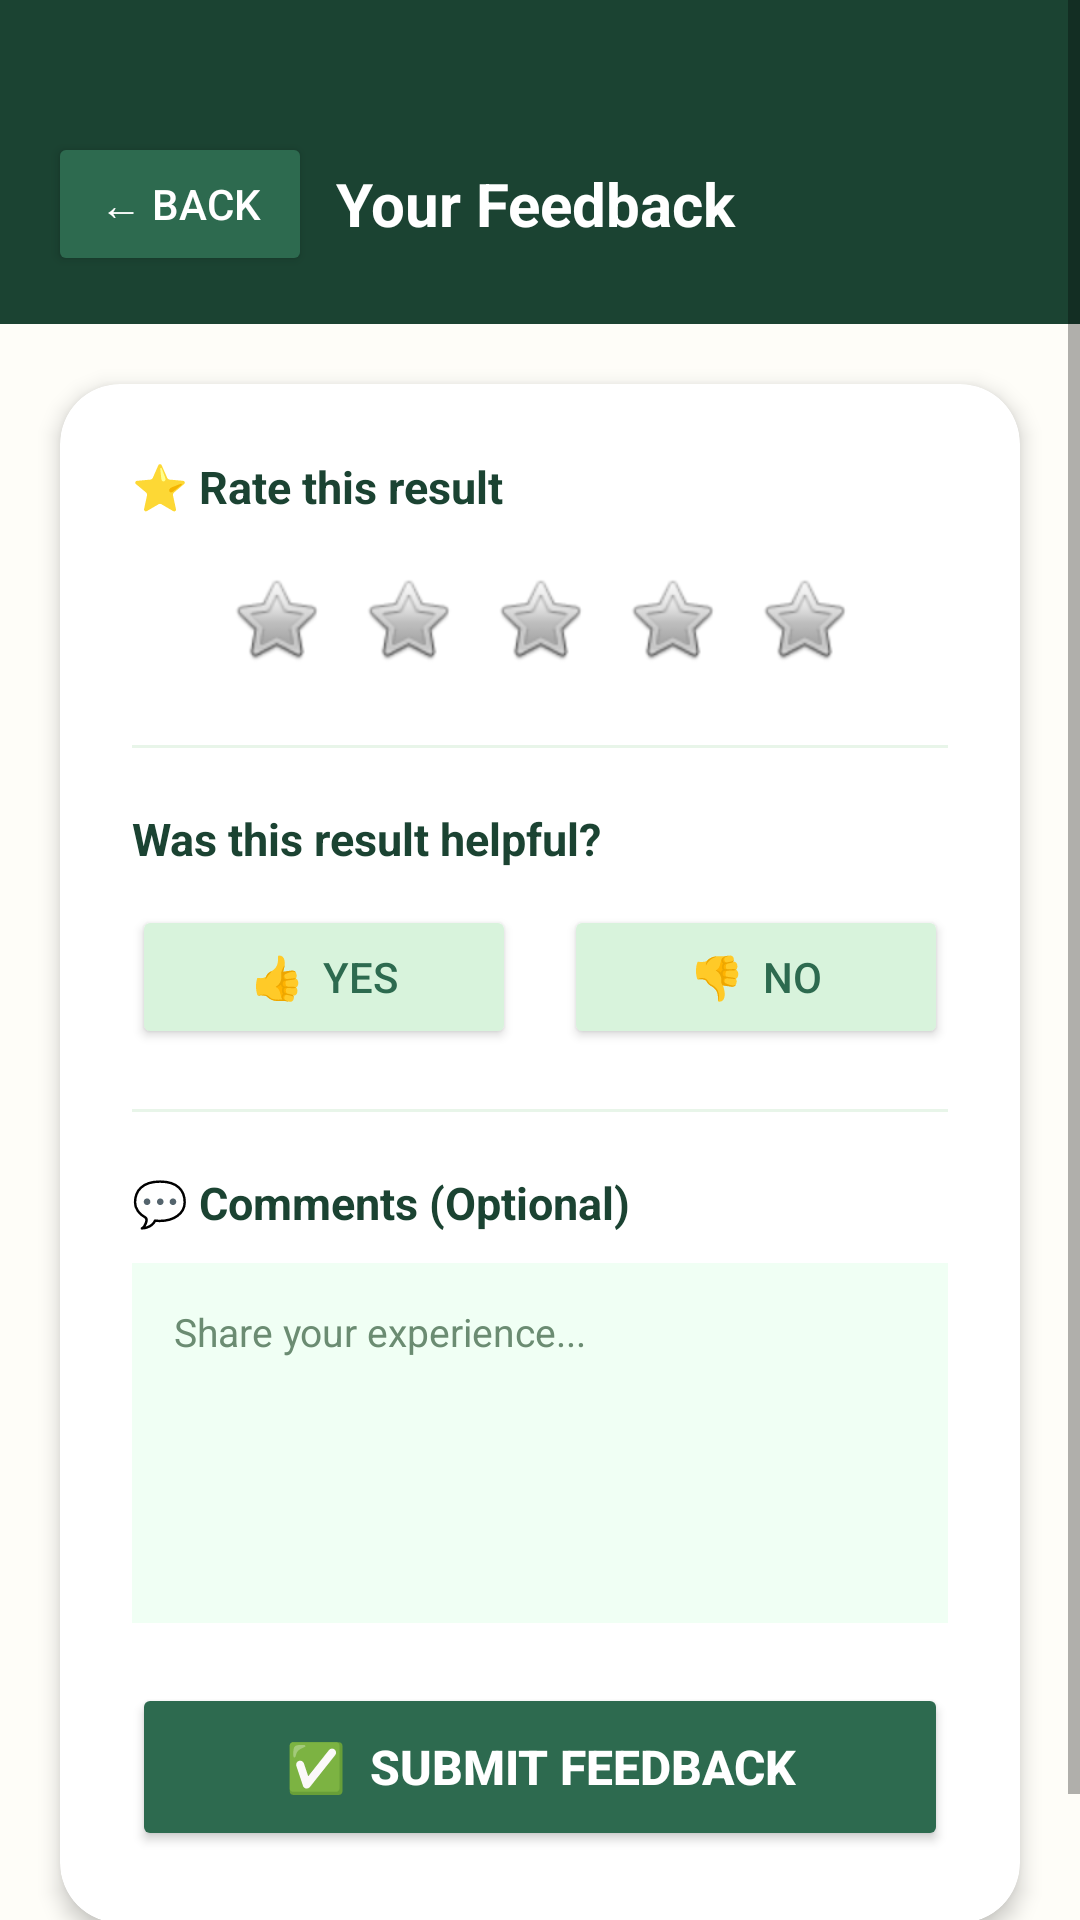

Screen size 1080x1920. Icon name, then its box in pixels as Rect(x1, y1, x2, y2):
1 star: Rect(237, 581, 317, 659)
2 stars: Rect(369, 581, 449, 659)
3 stars: Rect(501, 581, 581, 659)
4 stars: Rect(633, 581, 713, 659)
5 stars: Rect(765, 581, 845, 659)
